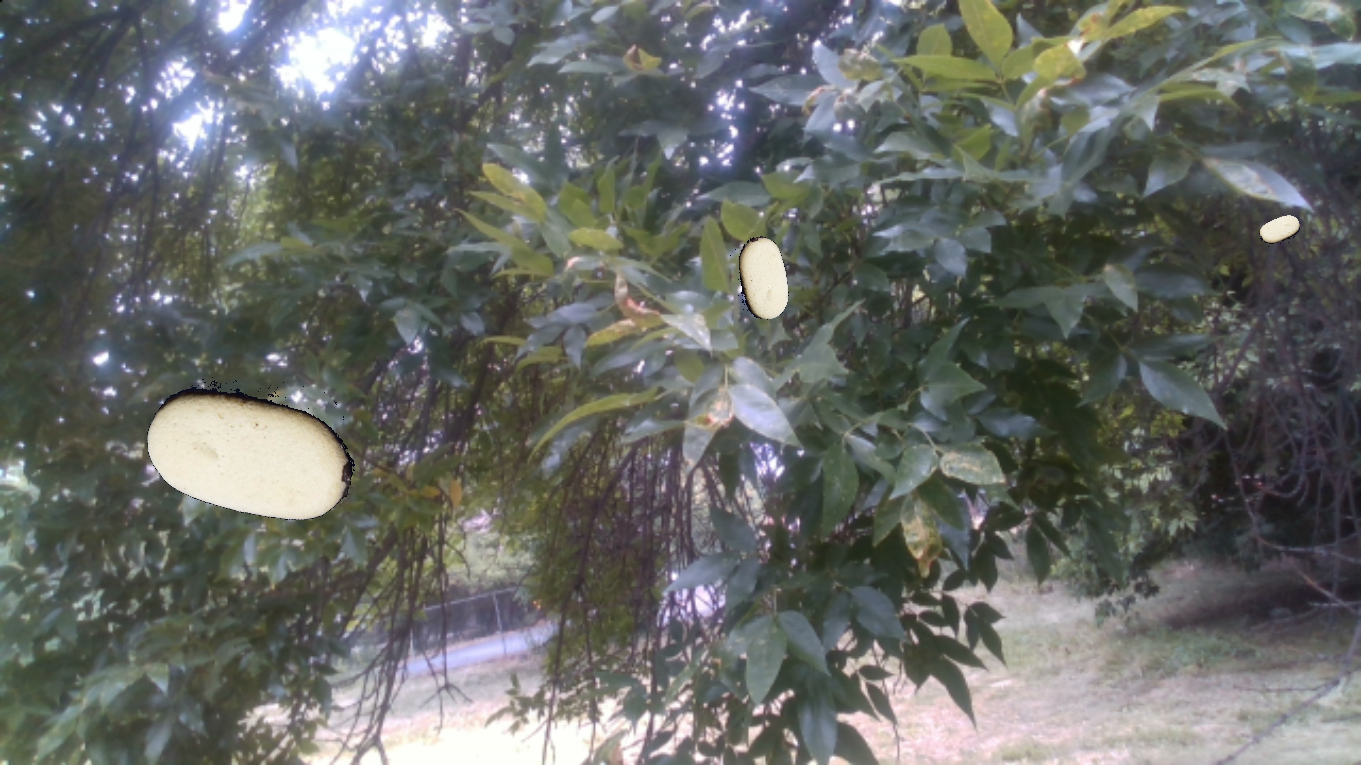test: (124, 316, 387, 579), (708, 225, 811, 328), (1255, 207, 1303, 255)
